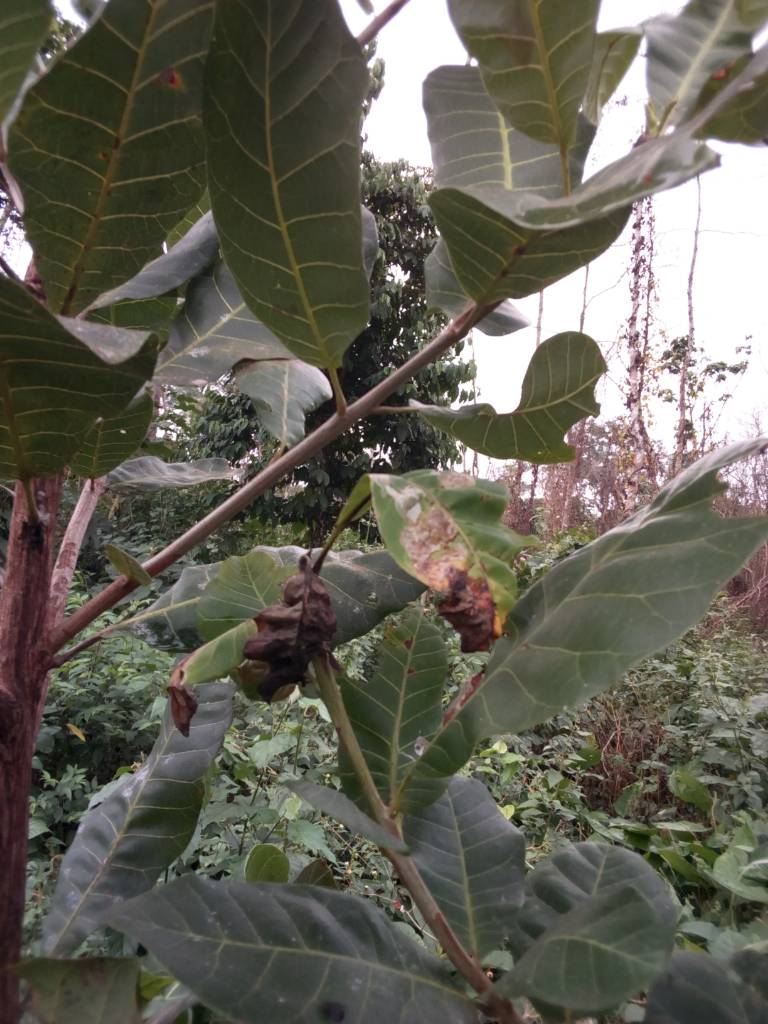Dysdercus wolkerii: (344, 462, 577, 648)
